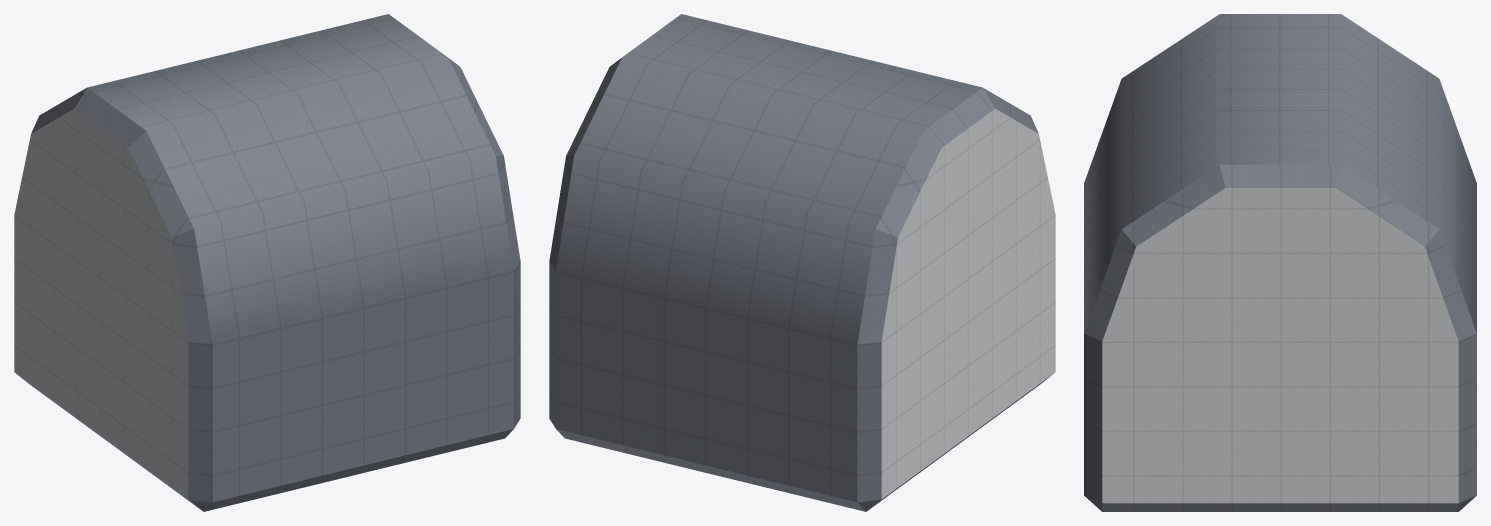
File: R4B_RoundTop_LOD1.glb
3 renders of one model, left to right at view 1: azimuth 30°, elevation 25°; view 2: azimuth 150°, elevation 25°; view 3: azimuth 270°, elevation 25°, orthographic. The views are drawn at different scales.
Visible parts, largest first — view 1: R4B_RoundTop_LOD1; view 2: R4B_RoundTop_LOD1; view 3: R4B_RoundTop_LOD1.
Part boxes in pixels (bbox=[...]): R4B_RoundTop_LOD1: bbox=[14, 14, 520, 511]; R4B_RoundTop_LOD1: bbox=[549, 14, 1055, 511]; R4B_RoundTop_LOD1: bbox=[1084, 14, 1476, 511].
Size of the model in its own units: 0.52 by 0.5073 by 0.52.
2 materials, 2 textured.
